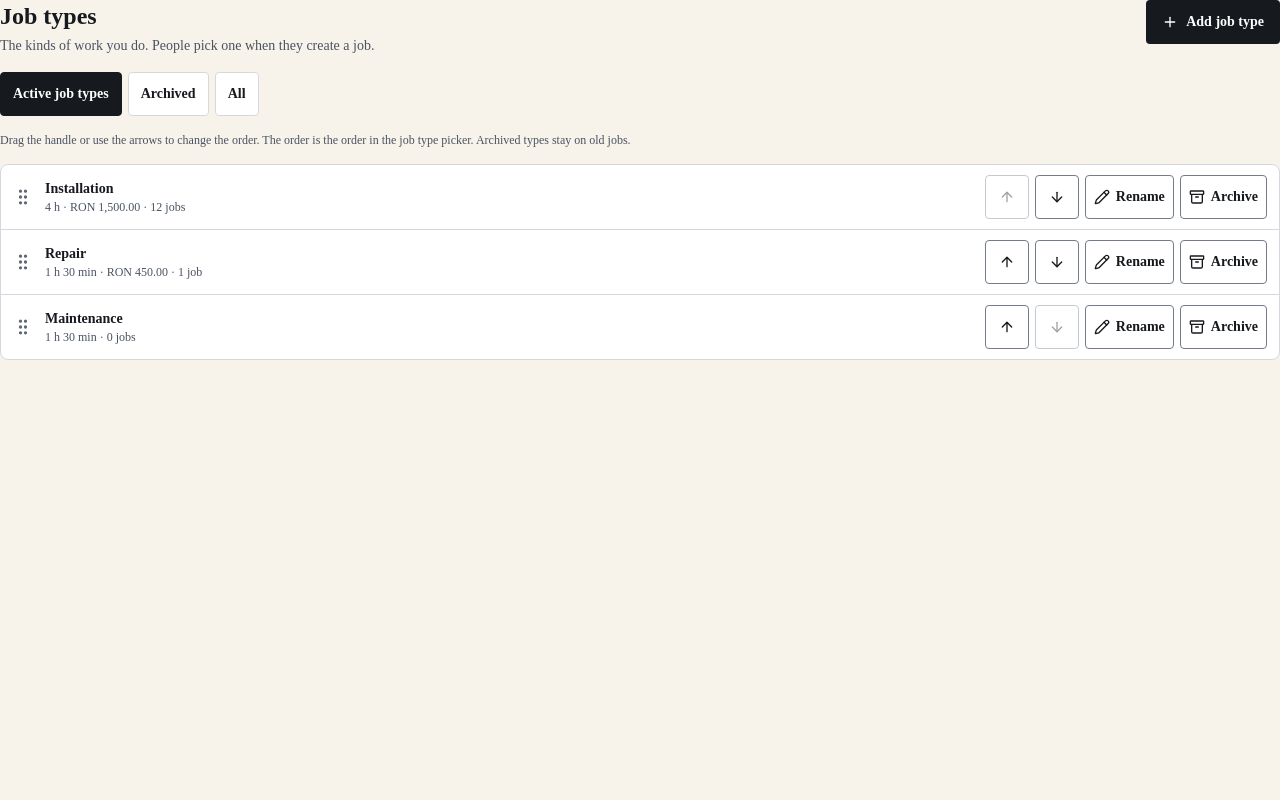
Job types admin (ce3173a7) › add and rename › a blank name and a bad time are refused
Expected: the text "Installation" is shown, [45,179,114,199]
Click the button "Add job type" at (1213,22), box [1146,0,1279,44]
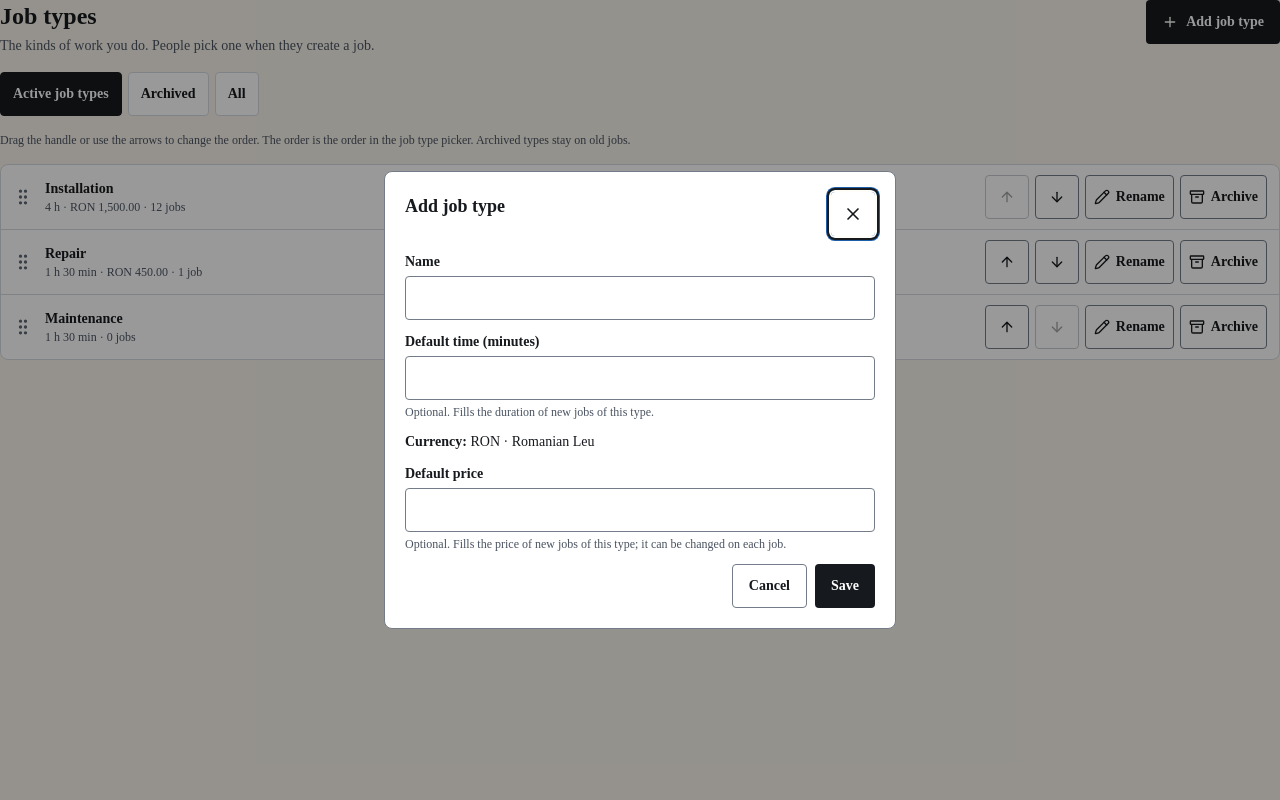
Type "1.5" into the field labelled "Default time (minutes)" at (640,378), box [405,356,875,400]
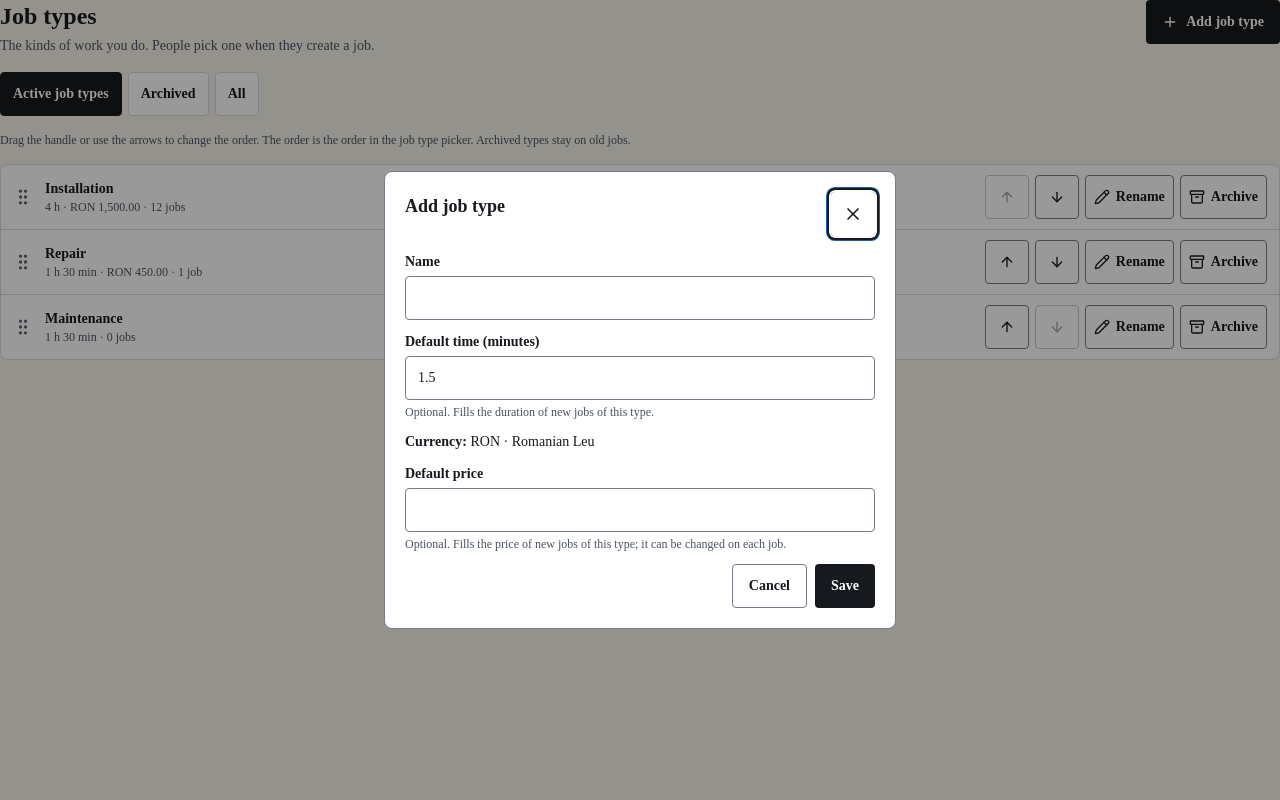
Click the button "Save" at (845,586), box [815,564,875,608]
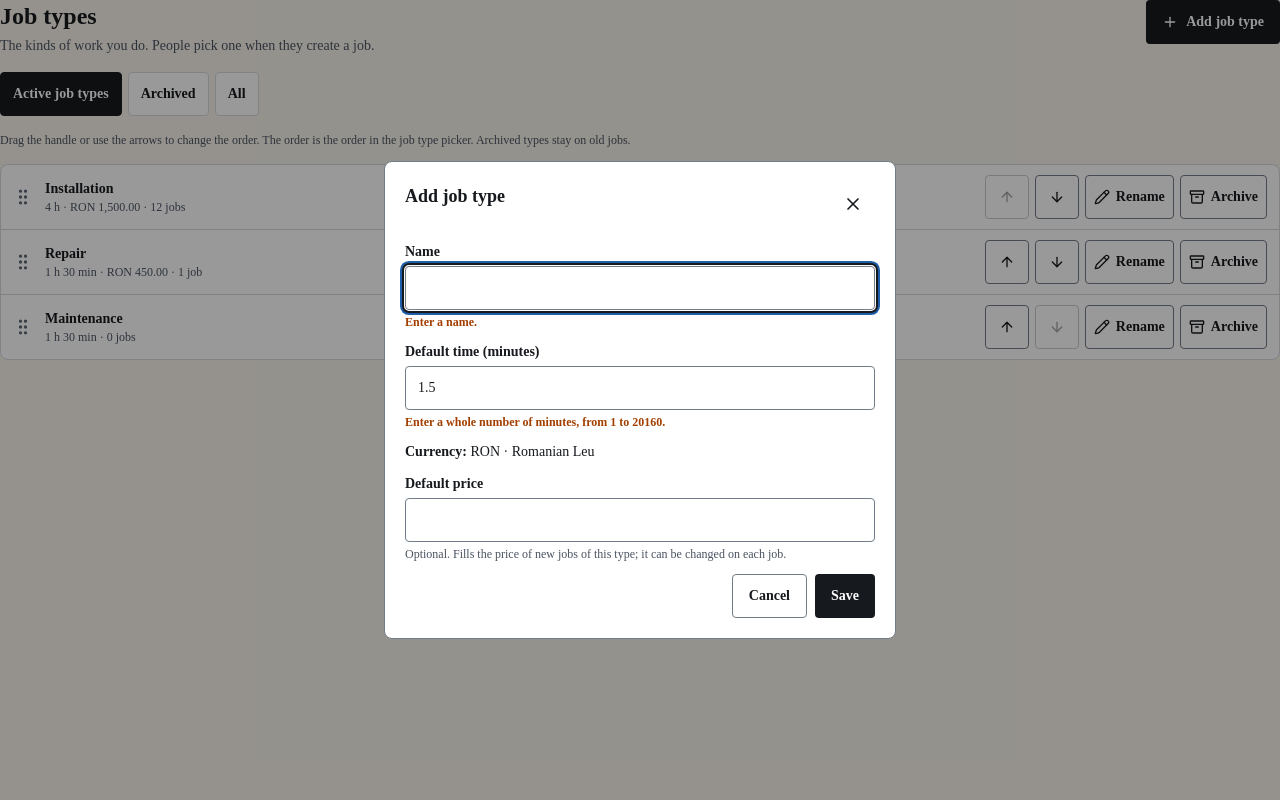
Expected: the text "Enter a name." is shown, [405,315,477,329]
Expected: the text "Enter a whole number of minutes, from 1 to 20160." is shown, [405,415,665,429]
